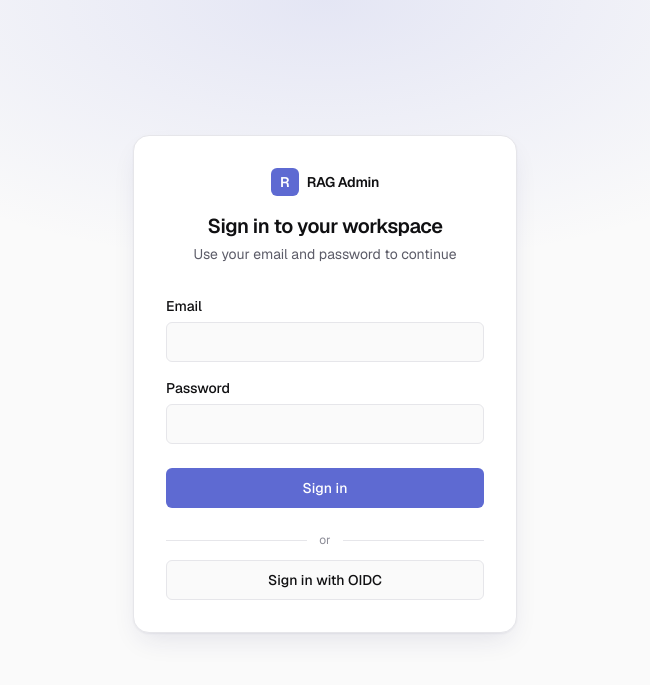
Test: LoginPage › shows a generic error message for an unexpected (non-401, non-429) failure
Type "a@b.com" into the field labelled "Email". click: (325, 342)
box: [166,322,484,362]
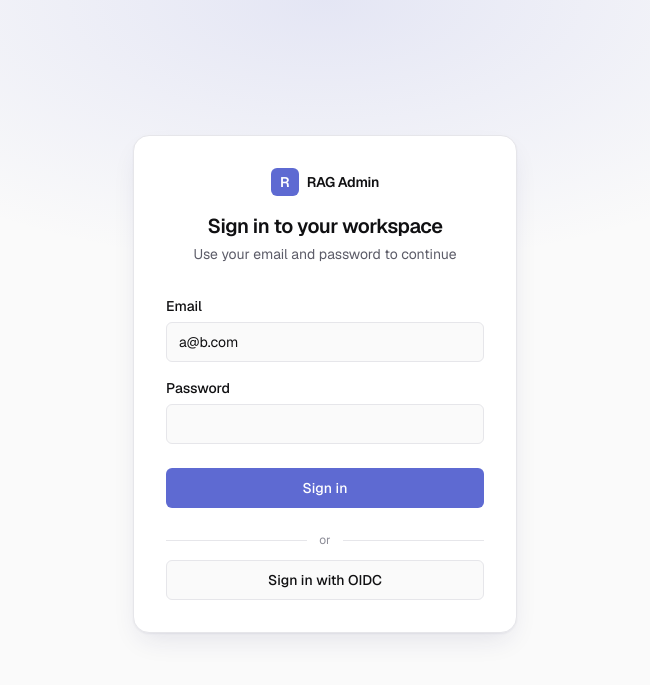
Type "wrong" into the password field labelled "Password". click: (325, 424)
box: [166,404,484,444]
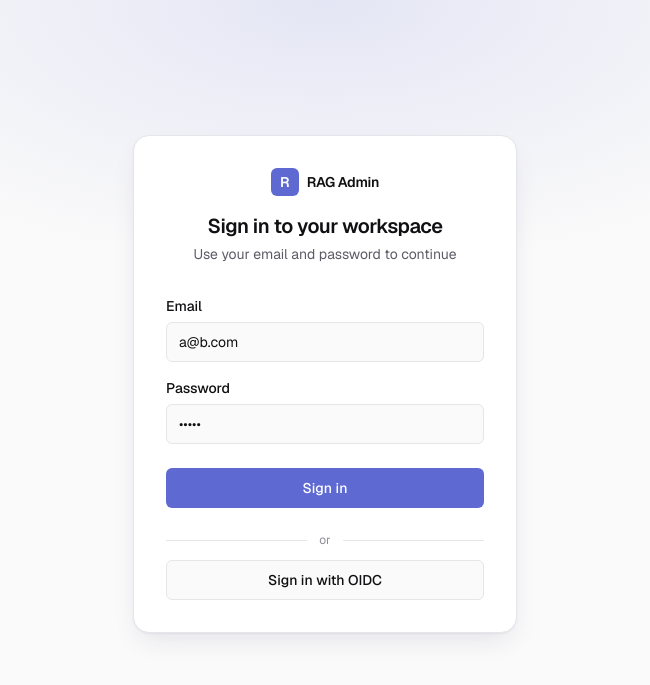
Click the button "Sign in". click: (325, 488)
box: [166,468,484,508]
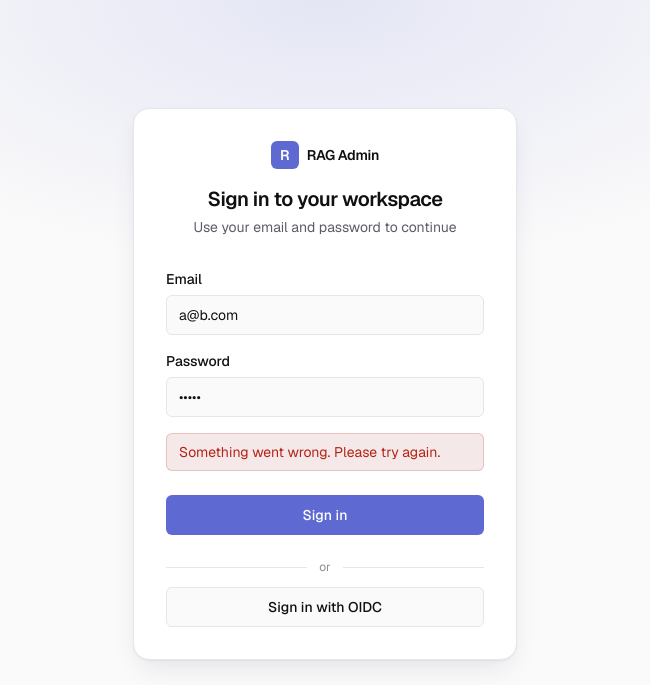
expect the text "Something went wrong. Please try again." is shown: met, box [166,433,484,471]
